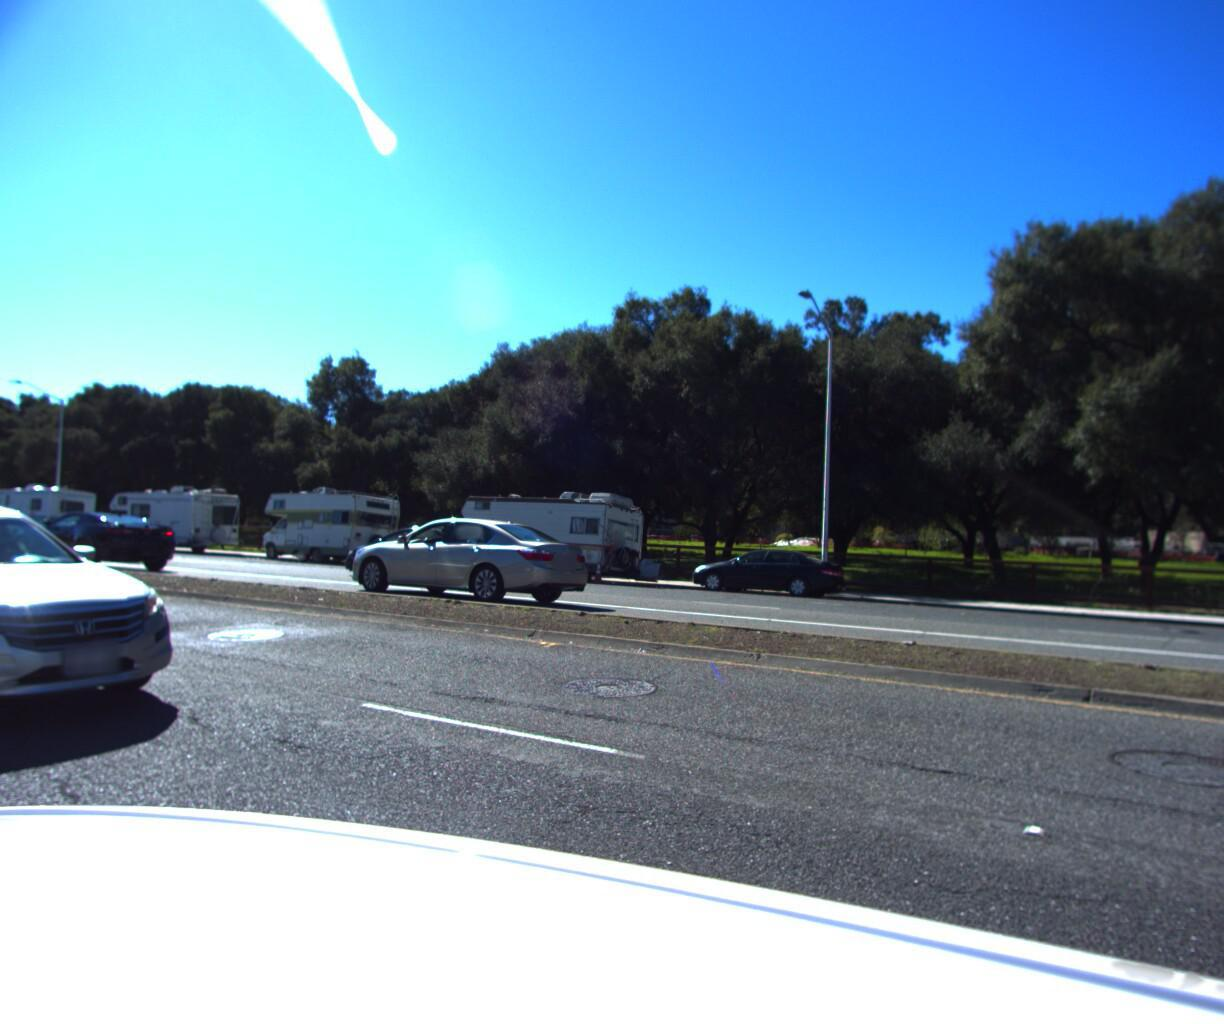car: (0, 500, 231, 779), (331, 506, 608, 612), (338, 525, 521, 592), (7, 514, 183, 578), (677, 545, 852, 604)
other_vehicle: (443, 487, 660, 589), (250, 487, 408, 573), (95, 486, 249, 562), (0, 487, 104, 554), (618, 553, 672, 589)
